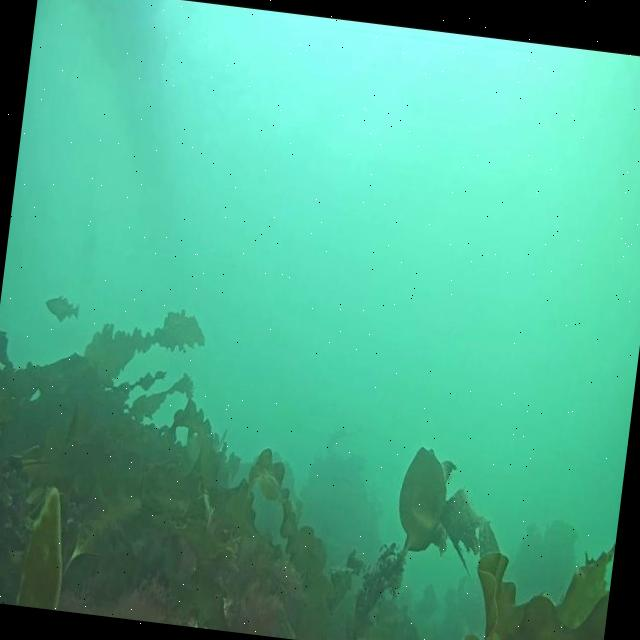fish: (42, 292, 80, 322)
